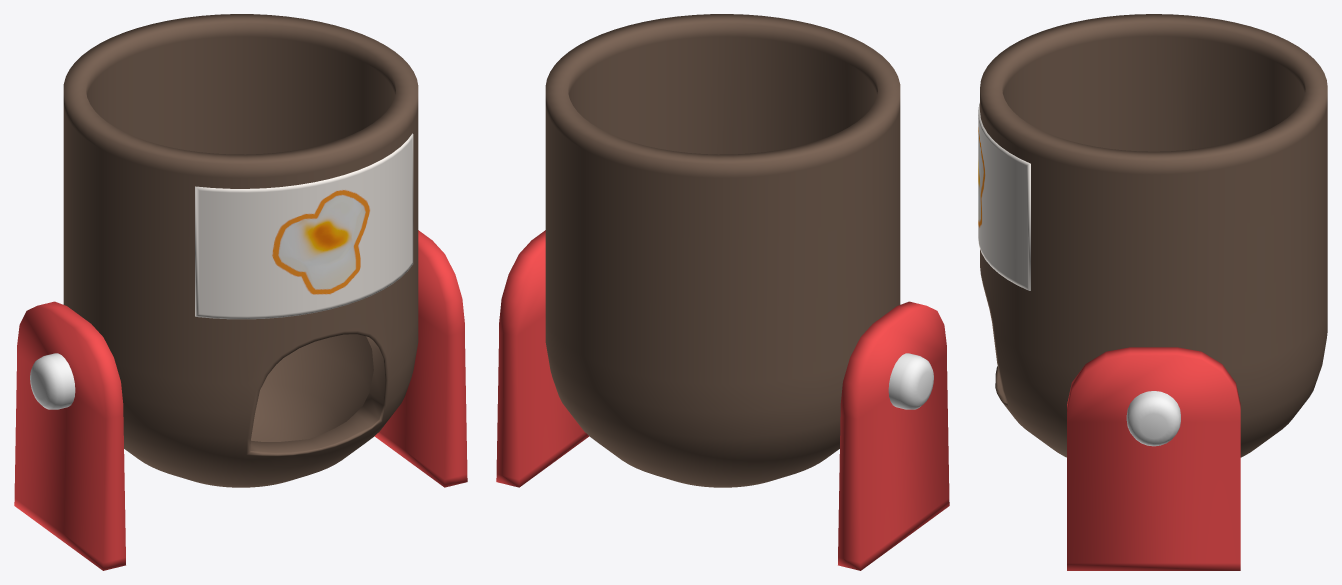
File: Popcorn_Choco.fbx
3 renders of one model, left to right at view 1: azimuth 30°, elevation 25°; view 2: azimuth 150°, elevation 25°; view 3: azimuth 270°, elevation 25°, orthographic. The views are drawn at different scales.
Parts seen in each view (by area): view 1: Body, Leg, Title; view 2: Body, Leg; view 3: Body, Leg, Title.
Boxes of the visible parts, x1=… form: Body: x1=63, y1=14, x2=418, y2=487; Leg: x1=14, y1=230, x2=467, y2=570; Title: x1=195, y1=133, x2=413, y2=319; Body: x1=545, y1=14, x2=900, y2=487; Leg: x1=496, y1=230, x2=949, y2=570; Body: x1=980, y1=14, x2=1327, y2=457; Leg: x1=1067, y1=347, x2=1240, y2=570; Title: x1=978, y1=103, x2=1030, y2=290.
Size of the model in its own units: 526 by 503 by 402.
